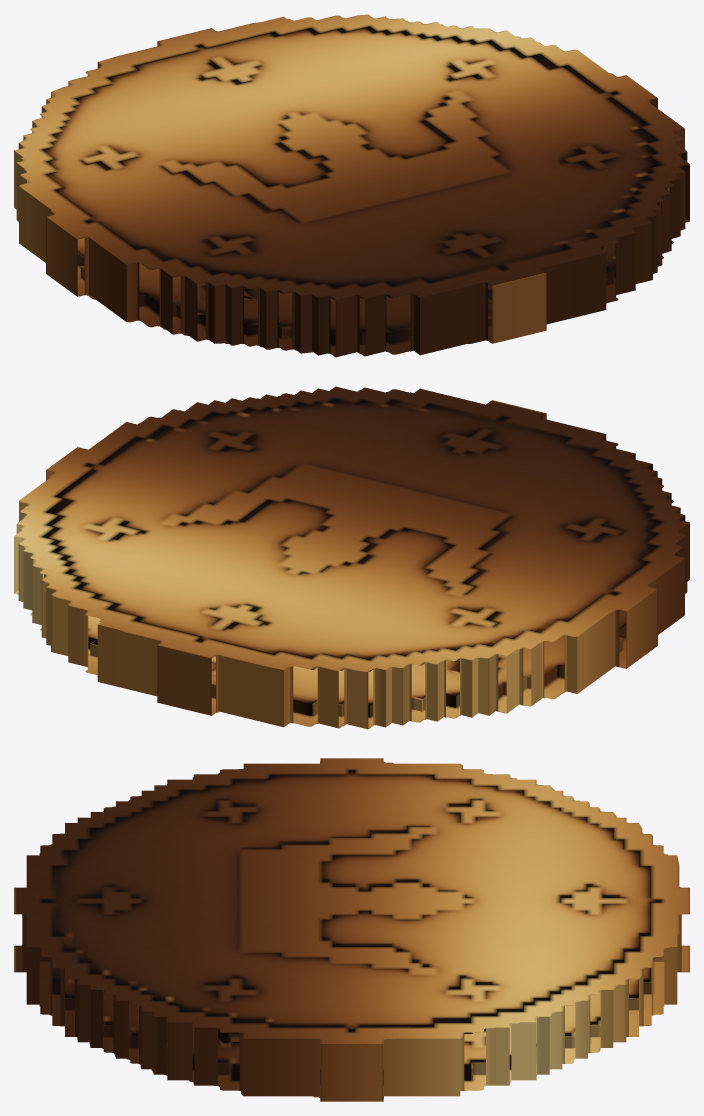
File: bronzecoin.obj
3 renders of one model, top to bottom at view 1: azimuth 30°, elevation 25°; view 2: azimuth 150°, elevation 25°; view 3: azimuth 270°, elevation 25°, orthographic.
Parts seen in each view (by area): view 1: Piece_de_monnaie.001; view 2: Piece_de_monnaie.001; view 3: Piece_de_monnaie.001.
Boxes of the visible parts, bbox=[...] form: Piece_de_monnaie.001: bbox=[14, 14, 689, 357]; Piece_de_monnaie.001: bbox=[14, 386, 689, 729]; Piece_de_monnaie.001: bbox=[14, 758, 689, 1101].
Bounding box in the file's own units: 0.0234 × 0.00221 × 0.0234.
